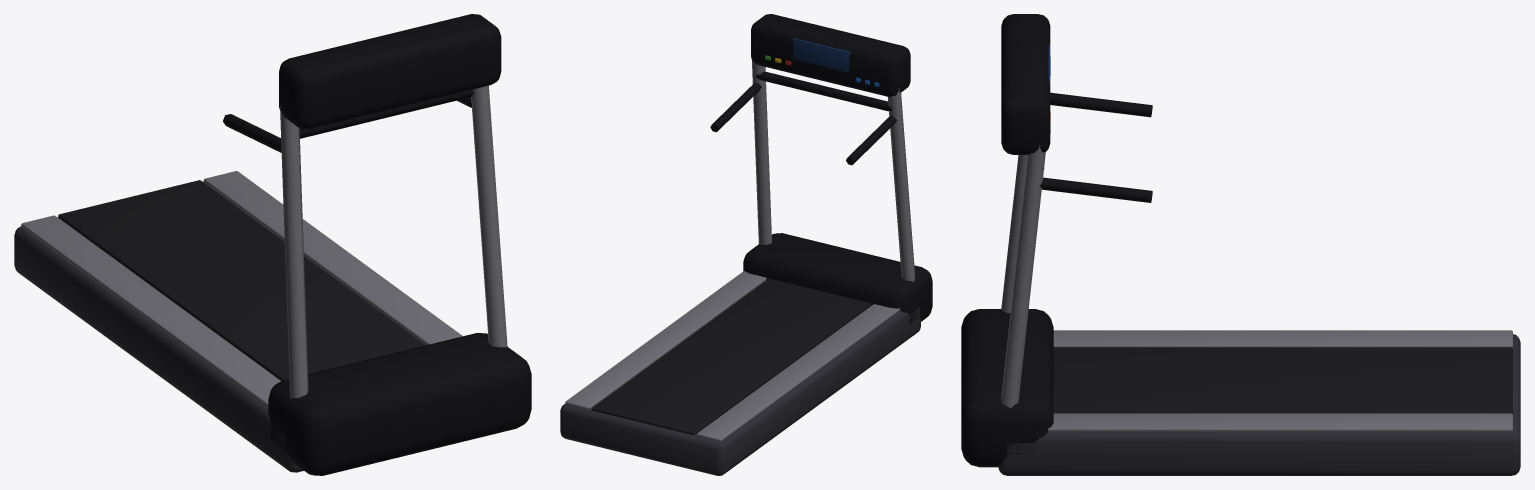
Rendered from treadmill.glb.
3 renders of one model, left to right at view 1: azimuth 30°, elevation 25°; view 2: azimuth 150°, elevation 25°; view 3: azimuth 270°, elevation 25°, orthographic. The views are drawn at different scales.
Visible parts, largest first — view 1: treadmill; view 2: treadmill, screen; view 3: treadmill.
Part boxes in pixels (left/top/right/bottom): treadmill: left=14, top=14, right=531, bottom=475; treadmill: left=560, top=14, right=932, bottom=475; screen: left=793, top=38, right=850, bottom=72; treadmill: left=961, top=14, right=1520, bottom=475.
Bounding box in the file's own units: 0.8 × 1.33 × 1.82.
